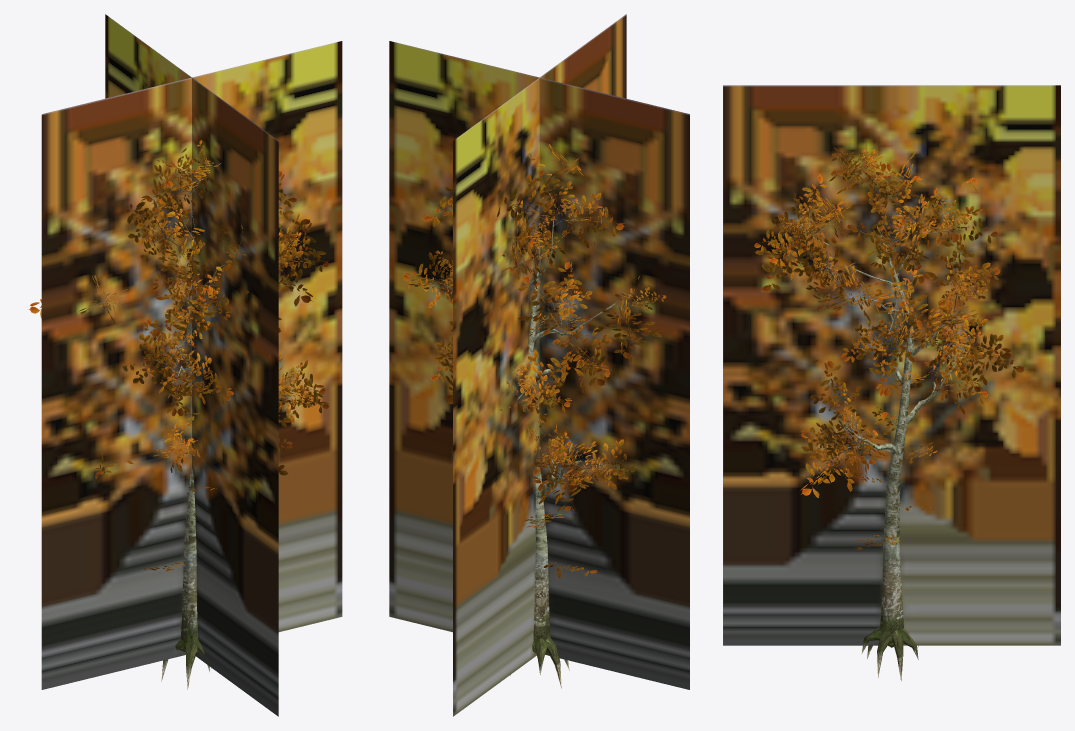
The model's file is Tree-Beech2C.fbx.
3 views of the same model, side by side, from view 1: azimuth 30°, elevation 25°; view 2: azimuth 150°, elevation 25°; view 3: azimuth 270°, elevation 25° (orthographic). The views are drawn at different scales.
Parts seen in each view (by area): view 1: Billboard-BeechC, Tree-Beech2C_LOD0; view 2: Billboard-BeechC, Tree-Beech2C_LOD0; view 3: Billboard-BeechC, Tree-Beech2C_LOD0.
Boxes of the visible parts, x1,y1,x2,y2 form: Billboard-BeechC: (41, 14, 342, 716); Tree-Beech2C_LOD0: (29, 140, 329, 689); Billboard-BeechC: (389, 14, 689, 716); Tree-Beech2C_LOD0: (402, 144, 666, 688); Billboard-BeechC: (723, 85, 1060, 645); Tree-Beech2C_LOD0: (754, 145, 1025, 680).
Size of what is drawn, in the model's own units: 1713 by 3241 by 1694.
